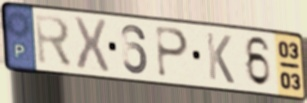6: (243, 35, 272, 90), (120, 23, 150, 76)
K: (204, 30, 236, 86)
P: (154, 24, 191, 81)
R: (33, 12, 75, 71)
X: (71, 14, 112, 74)
